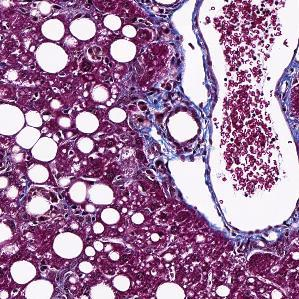fibrosis: (143, 96, 166, 151)
